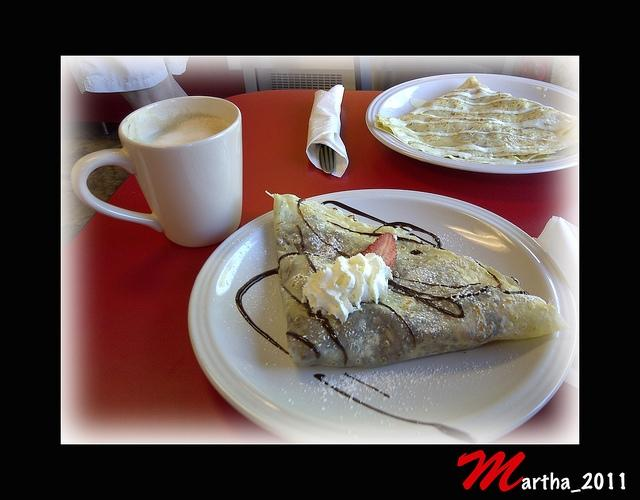strawberry: (358, 232, 398, 274)
